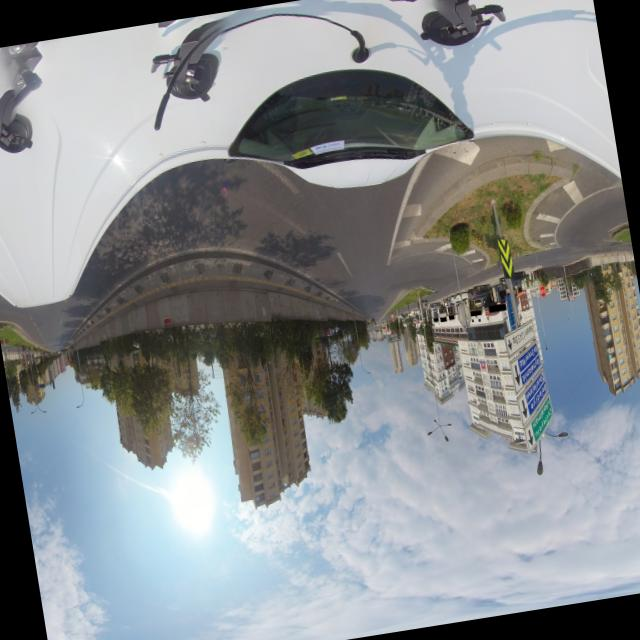SignStore: (488, 303, 505, 312), (469, 309, 481, 316), (439, 316, 446, 321), (448, 314, 453, 319), (432, 317, 438, 321)
